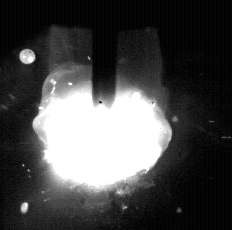arame: (92, 0, 118, 109)
poca: (31, 0, 170, 230)
